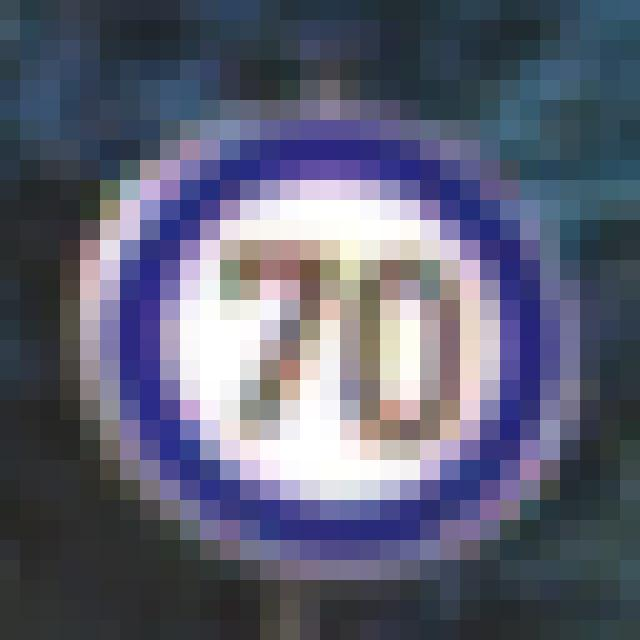SPEED LIMIT 70: (72, 92, 576, 570)
